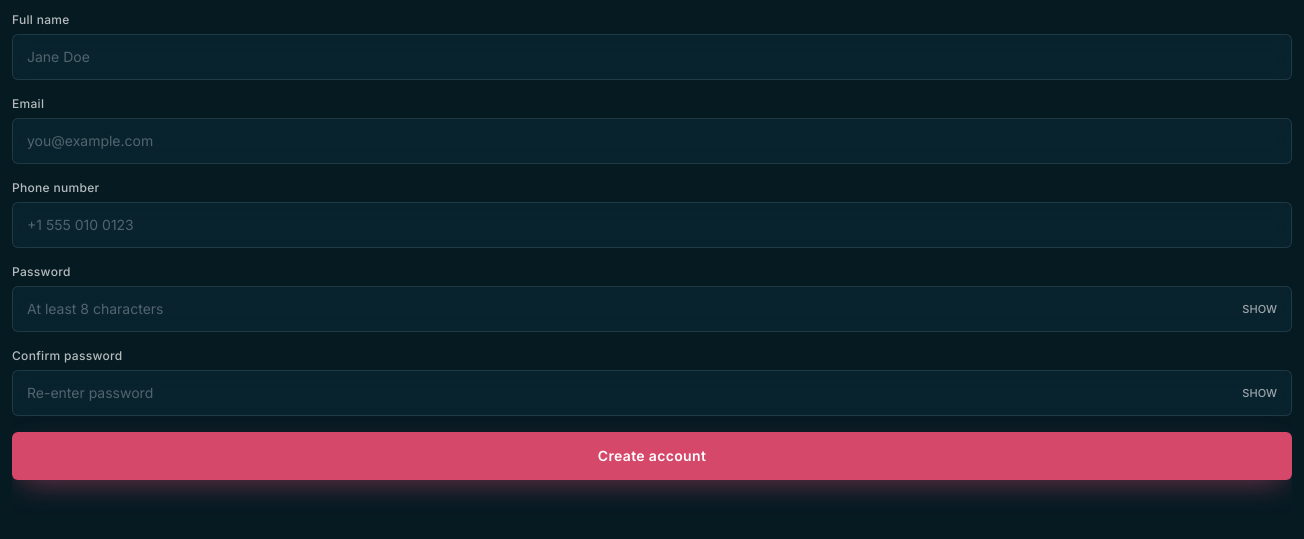
Scenario: SignUpForm › shows confirm password mismatch error
Type "John Doe" into the field labelled "Full name" at (652, 57), box 13,35 -> 1291,79
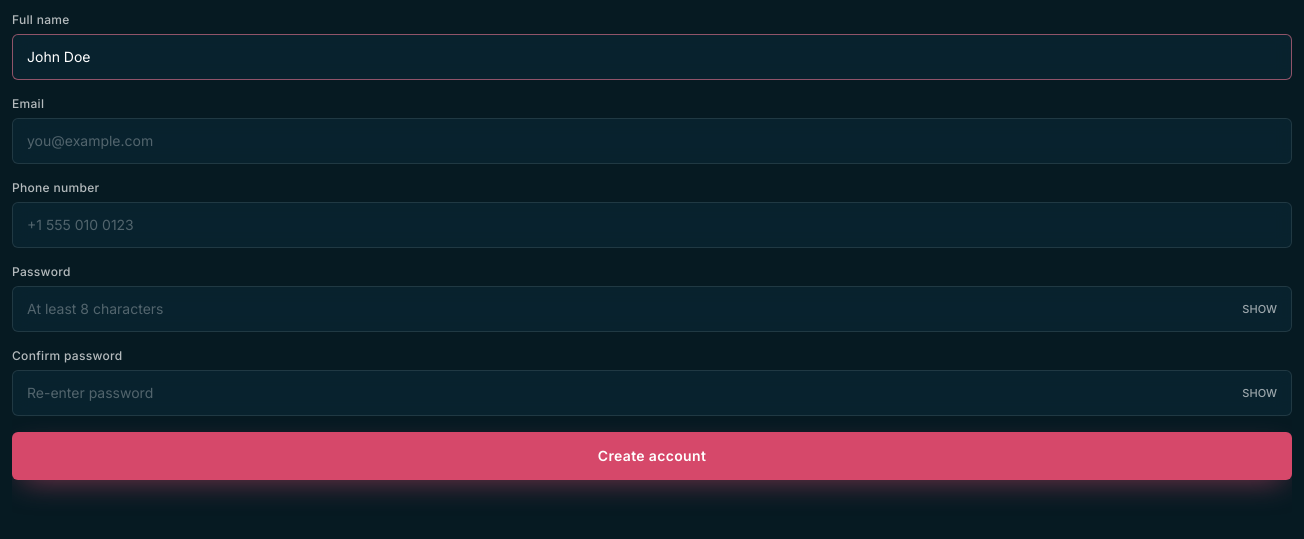
Type "john@example.com" into the field labelled "Email" at (652, 141), box 13,119 -> 1291,163
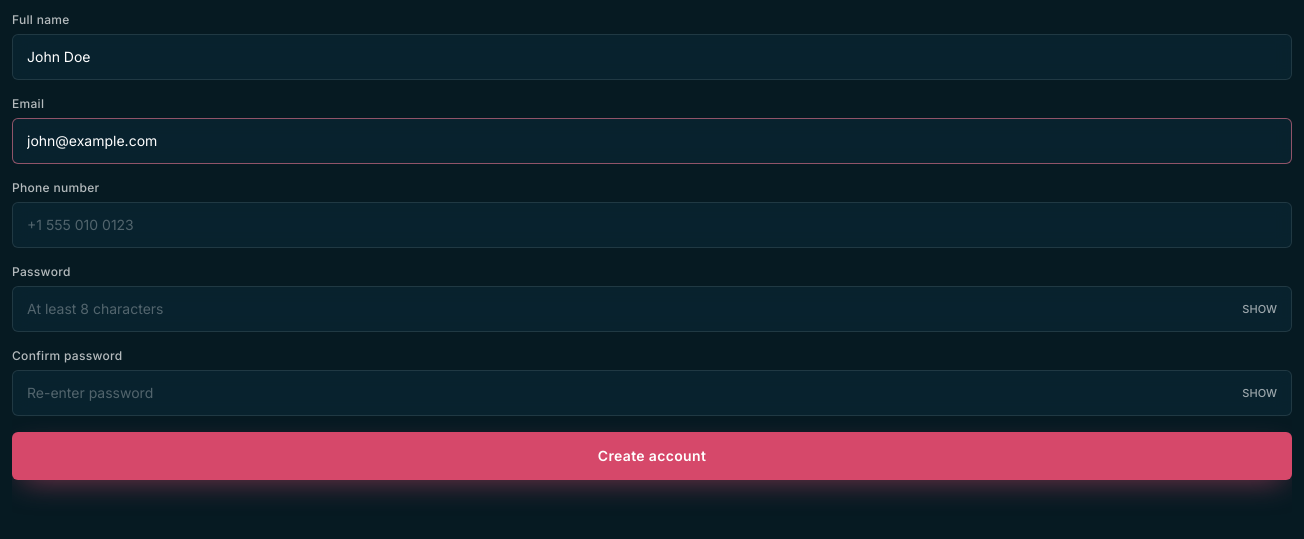
Type "+1234567890" into the field labelled "Phone number" at (652, 225), box 13,203 -> 1291,247
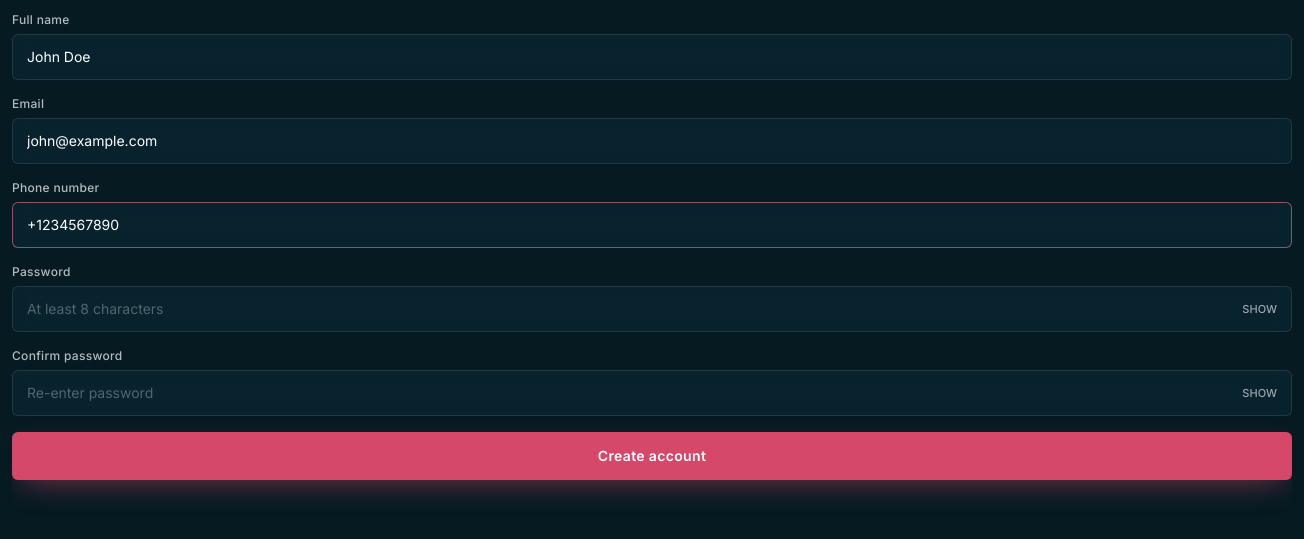
Type "password123" into the password field labelled "Password" at (652, 309), box 13,287 -> 1291,331
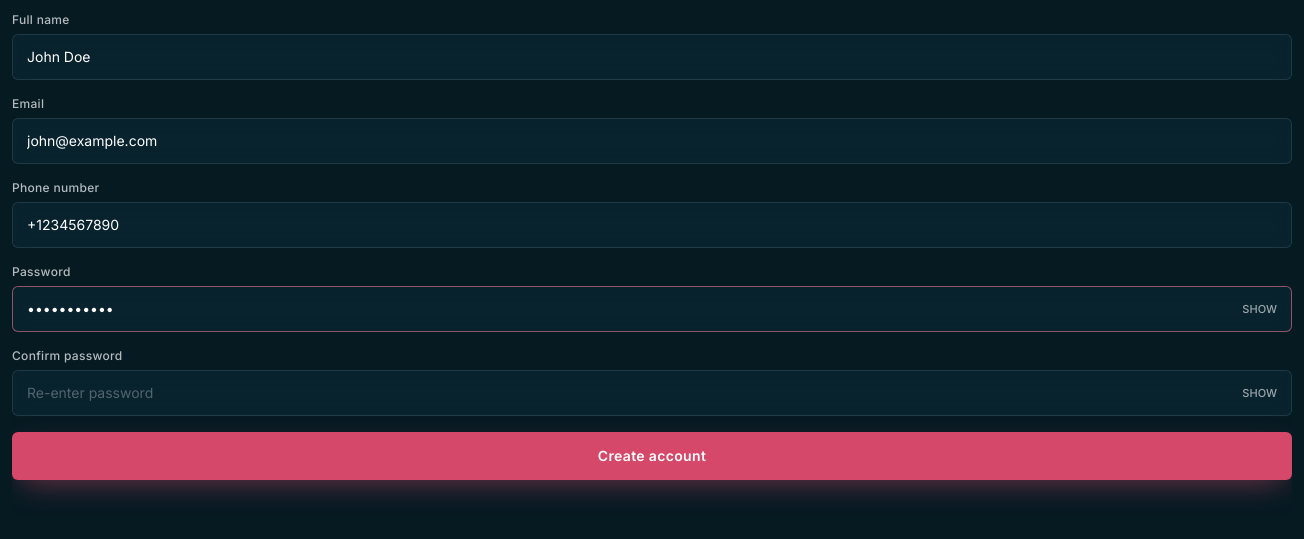
Type "different123" into the password field labelled "Confirm password" at (652, 393), box 13,371 -> 1291,415
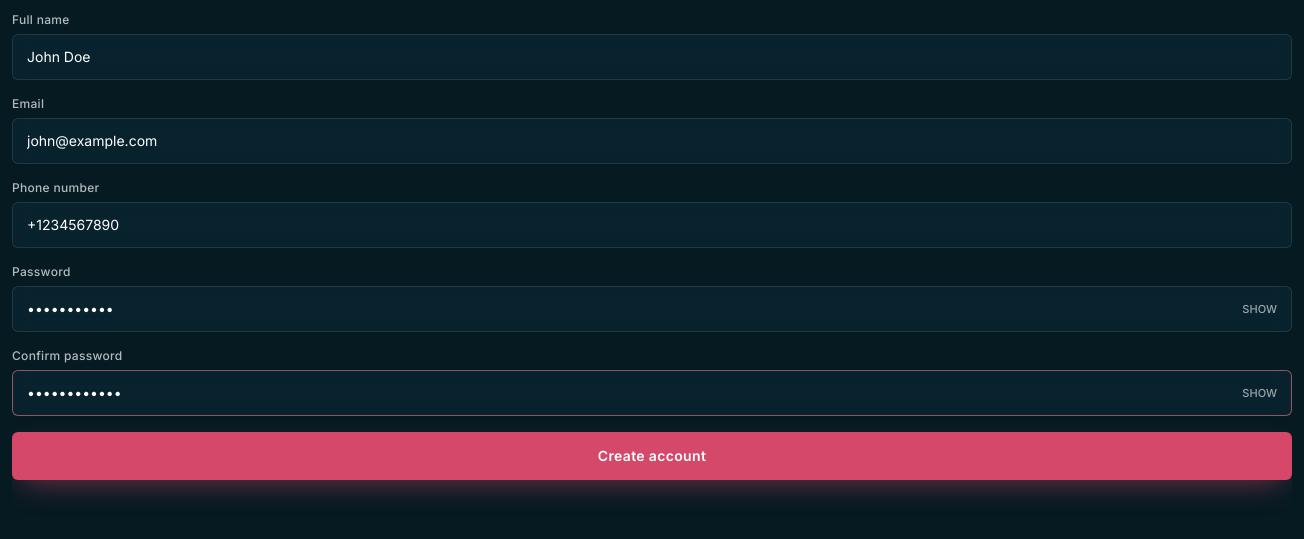
Click the button "Create account" at (652, 456), box 12,432 -> 1292,480
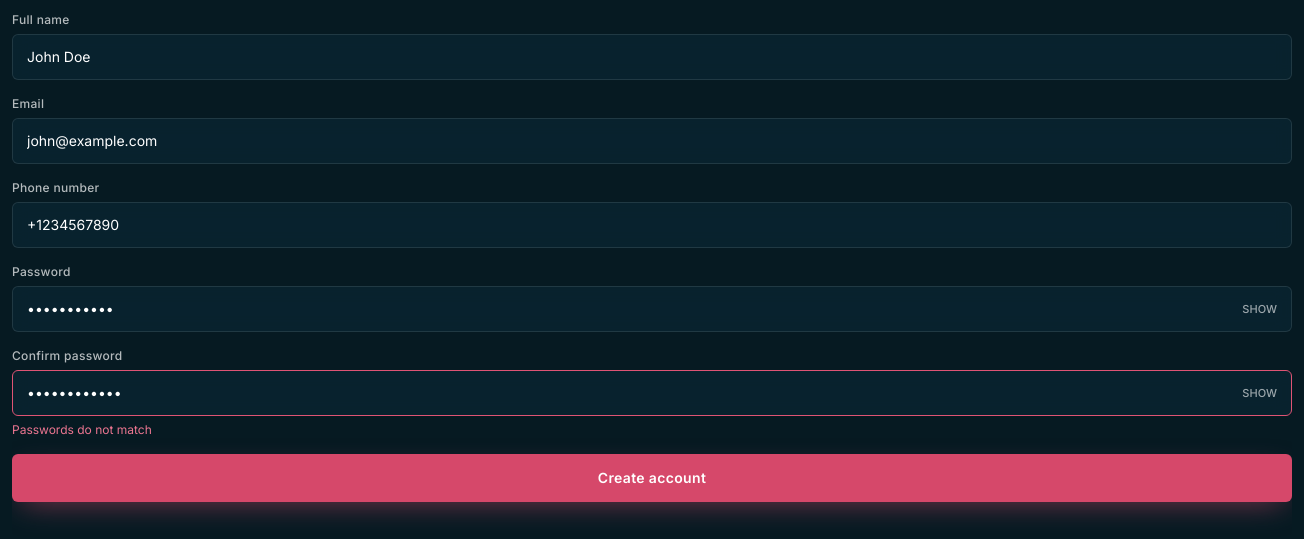
Check: the text "Passwords do not match" is shown, box 12,422 -> 152,437
